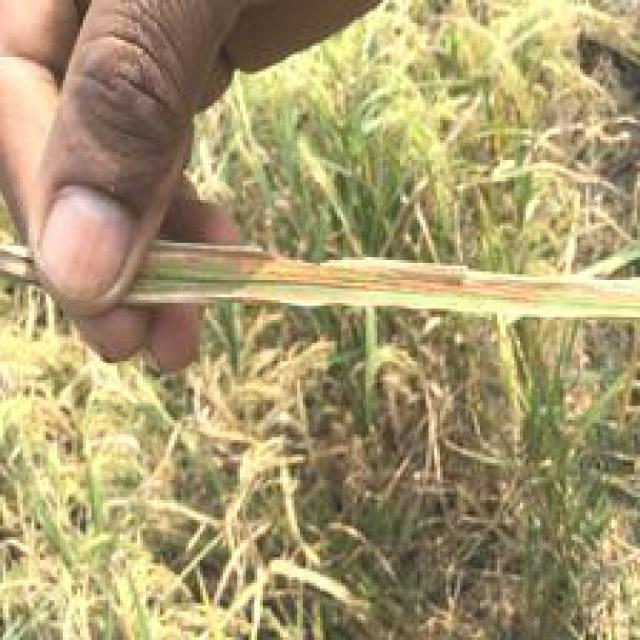Rice_Bacterial_Blight: (134, 222, 617, 358)
